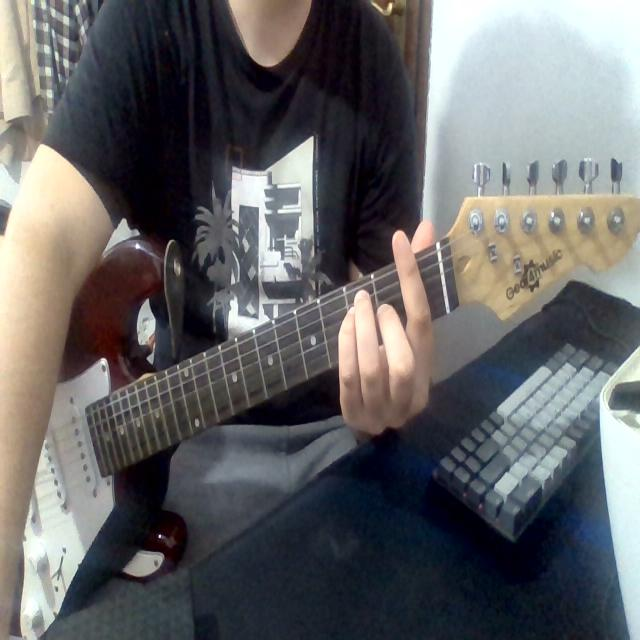F: (328, 221, 447, 431)
